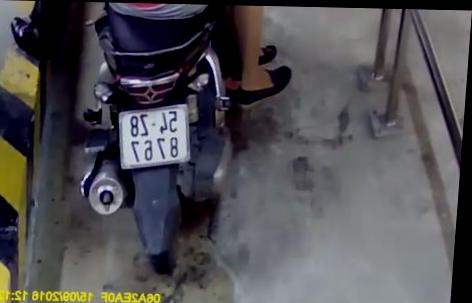License_Plate: (110, 97, 201, 175)
